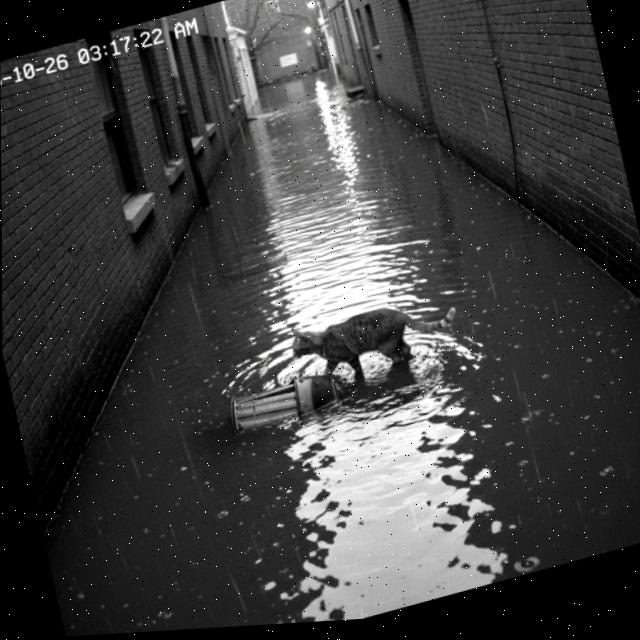cat: (277, 270, 474, 405)
